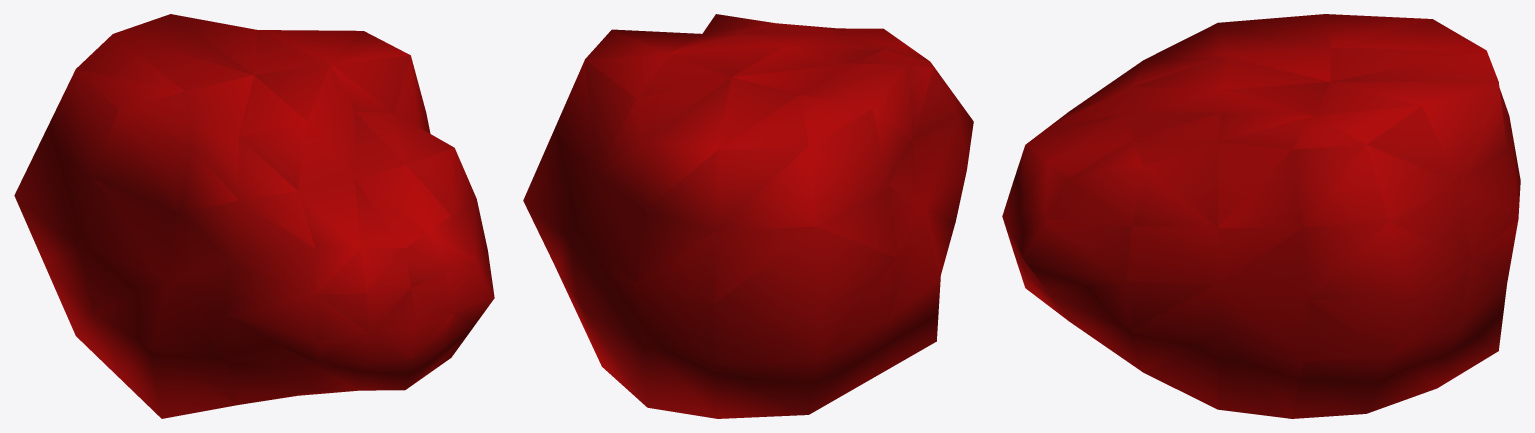
The model's file is geology-pebbles-sandchunk_v8.fbx.
3 renders of one model, left to right at view 1: azimuth 30°, elevation 25°; view 2: azimuth 150°, elevation 25°; view 3: azimuth 270°, elevation 25°, orthographic.
Visible parts, largest first — view 1: SandChunk_v8; view 2: SandChunk_v8; view 3: SandChunk_v8.
Part boxes in pixels (left/top/right/bottom): SandChunk_v8: left=14, top=14, right=494, bottom=418; SandChunk_v8: left=523, top=14, right=973, bottom=418; SandChunk_v8: left=1002, top=14, right=1520, bottom=418.
Size of the model in its own units: 5.33 by 4.01 by 7.01.
